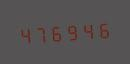four: (17, 23, 32, 46), (82, 18, 97, 41)
nine: (66, 19, 81, 42)
seven: (33, 22, 48, 45)
six: (98, 17, 113, 40), (50, 21, 65, 43)
